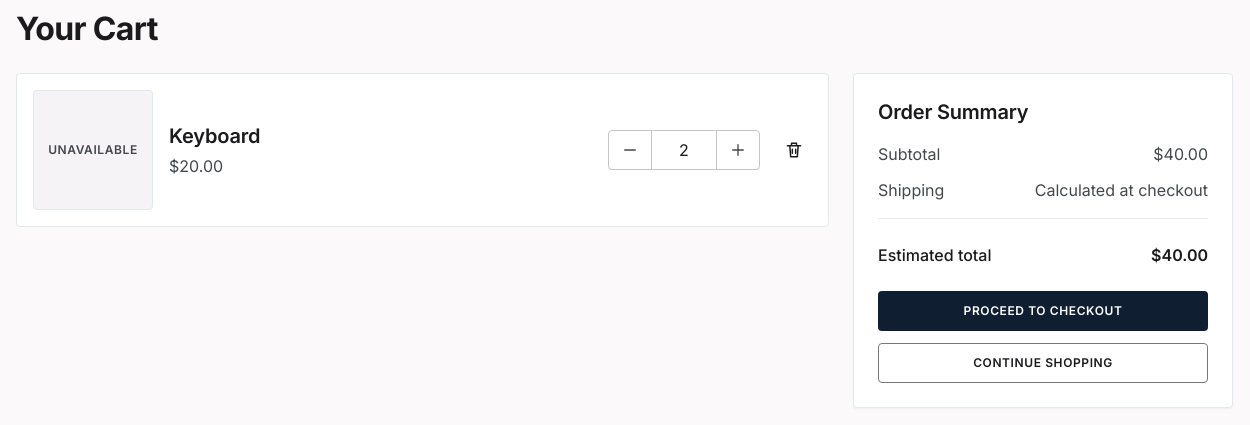
Test: CartView › shows the backend message when a cart mutation is rejected with a structured error
The width and height of the screenshot is (1250, 425).
Expected: the link "Keyboard" is shown, [169, 124, 260, 148]
Step 1. Click the button named "Increase quantity for Keyboard" → (738, 150), box [716, 131, 759, 169]
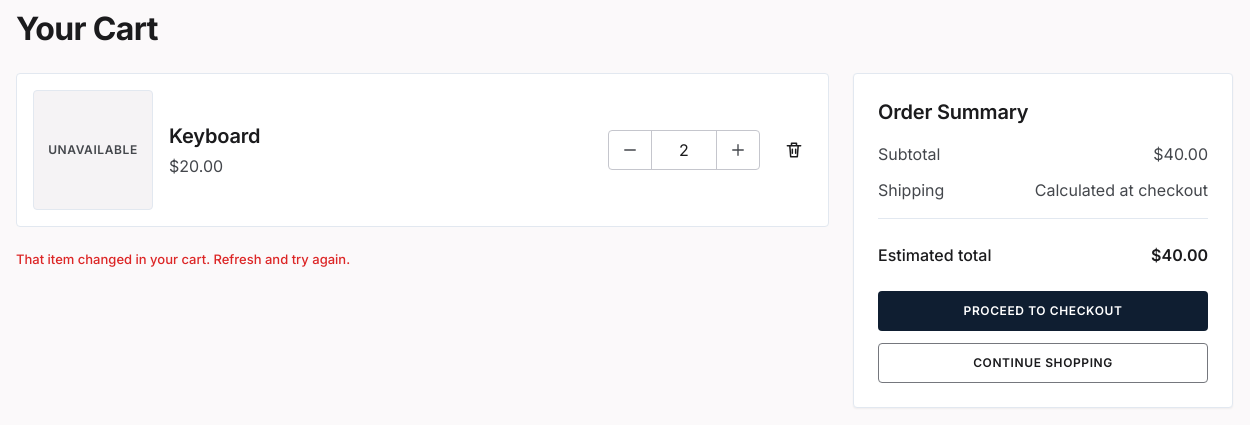
Result: the text "That item changed in your cart. Refresh and try again." is shown at [16, 251, 350, 267]
